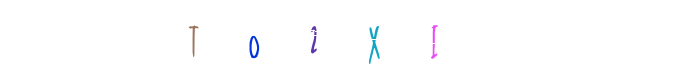0: (237, 0, 317, 80)
2: (297, 0, 377, 80)
I: (394, 0, 474, 80)
T: (215, 0, 295, 80)
X: (328, 0, 408, 80)
